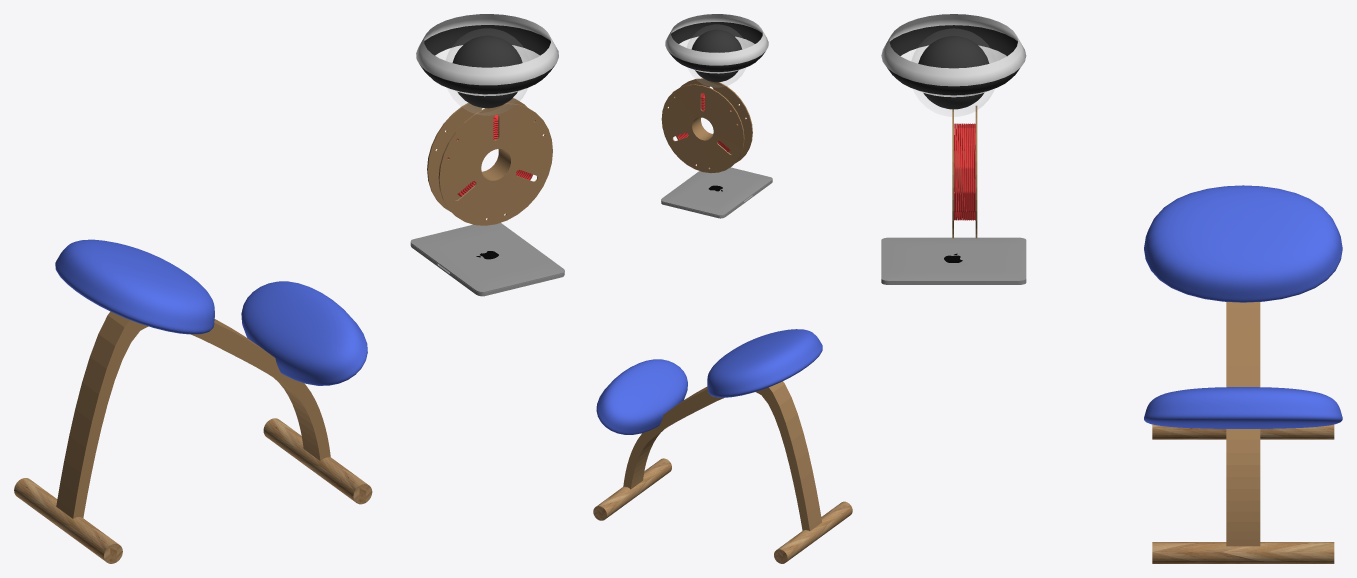
The model's file is litalicoMatida_v4.0.7.fbx.
3 views of the same model, side by side, from view 1: azimuth 30°, elevation 25°; view 2: azimuth 150°, elevation 25°; view 3: azimuth 270°, elevation 25° (orthographic). The views are drawn at different scales.
Parts seen in each view (by area): view 1: 骨組み, filamentCase, cushion.007, cushion.006, secretCamera, macPC_disp.001, secretCam_BB, secretCam_lenz; view 2: 骨組み, filamentCase, cushion.007, cushion.006, secretCamera, macPC_disp.001, secretCam_BB, secretCam_lenz, macPC; view 3: cushion.007, 骨組み, secretCamera, cushion.006, macPC_disp.001, secretCam_BB, filament, secretCam_lenz, filamentCase.
Part boxes in pixels (x1,y1,x2,y2): 骨組み: [14, 311, 372, 563]; filamentCase: [427, 98, 552, 225]; cushion.007: [55, 239, 214, 334]; cushion.006: [241, 281, 367, 385]; secretCamera: [416, 14, 558, 96]; macPC_disp.001: [410, 223, 564, 292]; secretCam_BB: [452, 35, 522, 108]; secretCam_lenz: [446, 29, 528, 114]; 骨組み: [593, 381, 852, 563]; filamentCase: [661, 78, 752, 172]; cushion.007: [707, 329, 822, 397]; cushion.006: [596, 359, 687, 434]; secretCamera: [665, 14, 768, 73]; macPC_disp.001: [661, 167, 772, 215]; secretCam_BB: [691, 29, 742, 82]; secretCam_lenz: [687, 25, 746, 86]; macPC: [661, 180, 772, 218]; cushion.007: [1144, 185, 1342, 302]; 骨組み: [1152, 302, 1334, 563]; secretCamera: [881, 14, 1026, 97]; cushion.006: [1144, 387, 1342, 428]; macPC_disp.001: [881, 237, 1026, 283]; secretCam_BB: [918, 36, 989, 109]; filament: [954, 123, 975, 220]; secretCam_lenz: [912, 29, 995, 116]; filamentCase: [952, 105, 977, 238].
Size of the model in its own units: 85.67 by 126 by 96.63.
8 materials, 1 textured.
